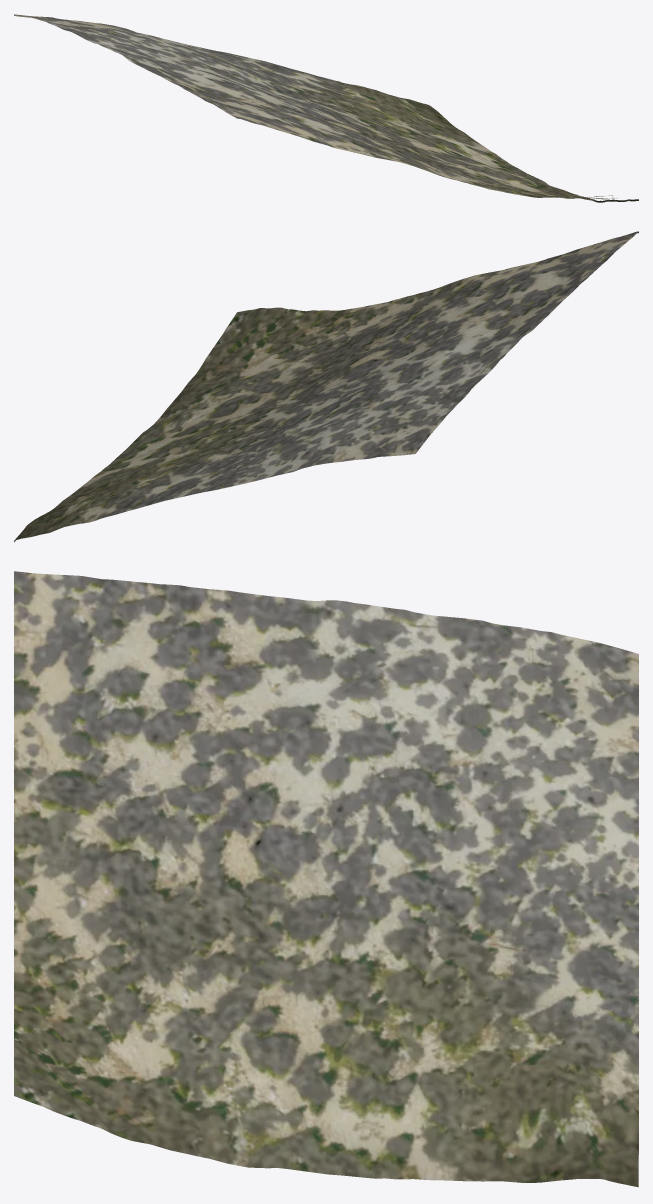
The picture shows the model from 3 angles, top to bottom: view 1: azimuth 30°, elevation 25°; view 2: azimuth 150°, elevation 25°; view 3: azimuth 270°, elevation 25°; orthographic projection. The views are drawn at different scales.
Size of the model in its own units: 250 by 146 by 241.
Materials: 1 (1 with a texture image).
